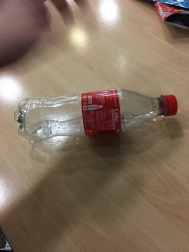bottle_red: (15, 78, 182, 150)
